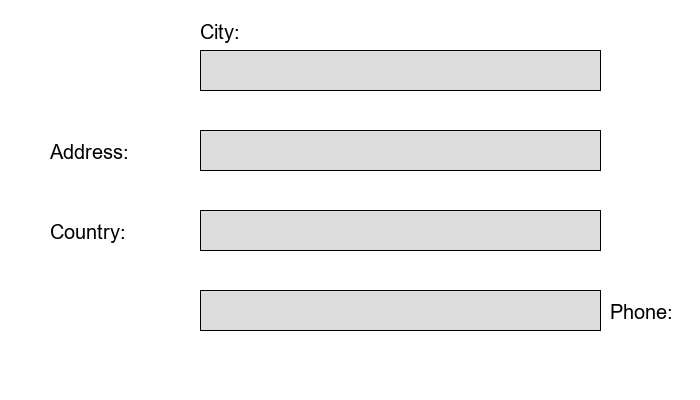Label: (50, 220, 120, 239), (50, 140, 124, 155), (610, 300, 667, 315), (200, 20, 234, 39)
Textbox: (200, 50, 600, 90), (200, 130, 600, 170), (200, 210, 600, 250), (200, 290, 600, 330)
